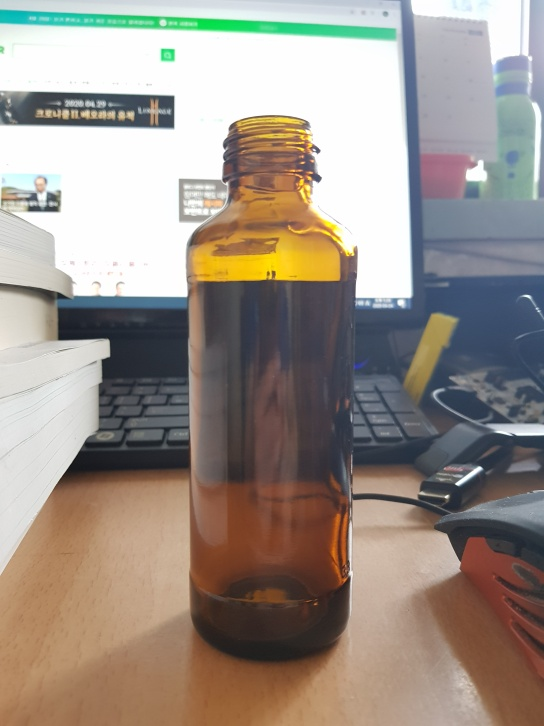Glass: (184, 115, 354, 661)
